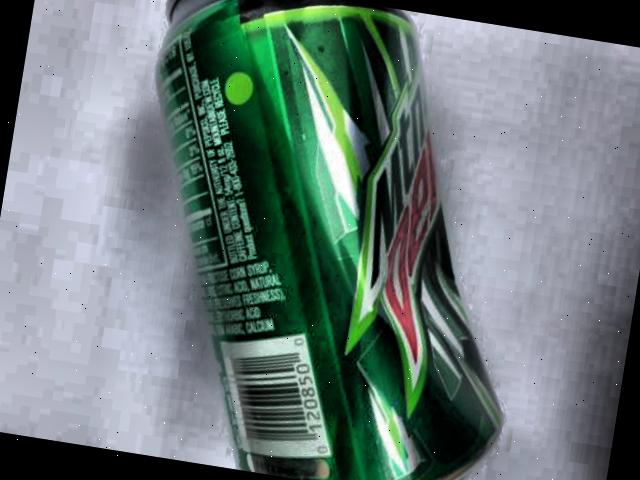Bottles: (57, 0, 560, 480)
